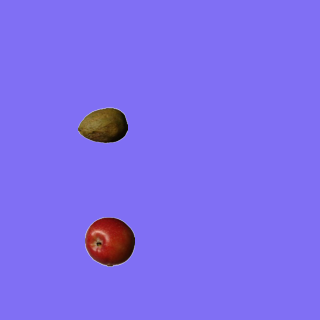Apple Braeburn: (84, 216, 134, 266)
Papaya: (77, 100, 127, 150)
